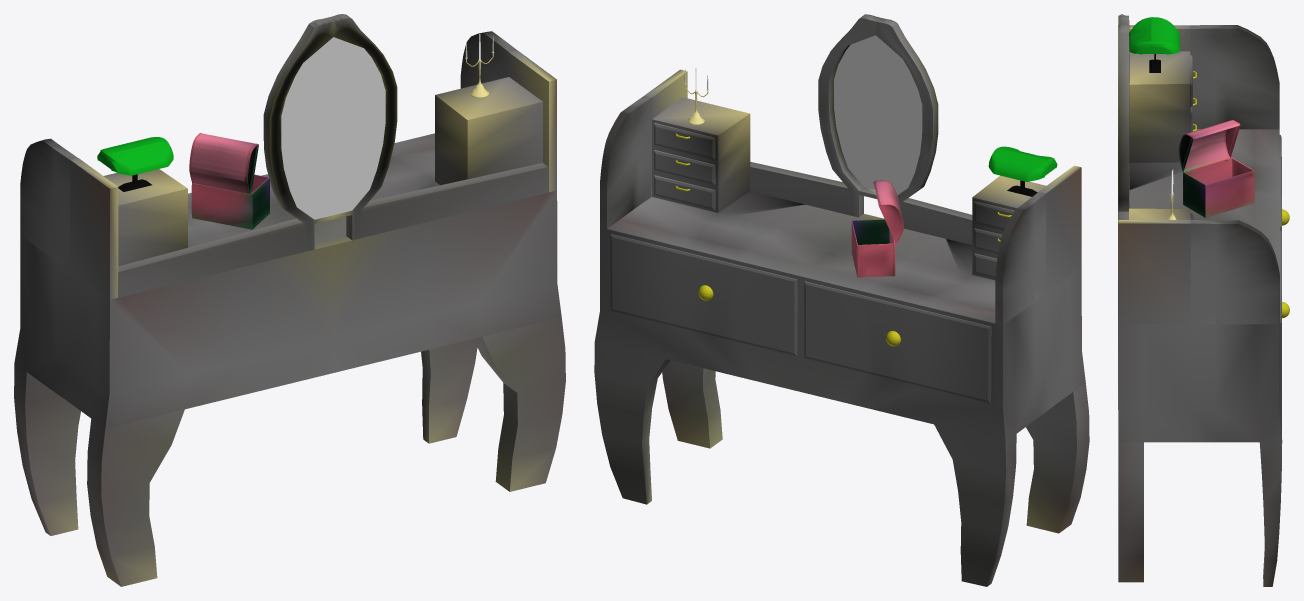
File: makeup.glb
3 renders of one model, left to right at view 1: azimuth 30°, elevation 25°; view 2: azimuth 150°, elevation 25°; view 3: azimuth 270°, elevation 25°, orthographic. The views are drawn at different scales.
Parts seen in each view (by area): view 1: Plane.001_0, ogledalo_2, Cylinder.002_7, Circle.005_6; view 2: Plane.001_0, ogledalo_2, Cylinder.002_7, Circle.005_6; view 3: Plane.001_0, Cylinder.002_7, Circle.005_6, Circle.001_1.
Boxes of the visible parts, box(x1,y1,x2,y2) form: Plane.001_0: box(14, 14, 565, 586); ogledalo_2: box(281, 37, 385, 219); Cylinder.002_7: box(189, 133, 269, 229); Circle.005_6: box(97, 137, 173, 191); Plane.001_0: box(594, 14, 1089, 586); ogledalo_2: box(834, 35, 922, 195); Cylinder.002_7: box(851, 180, 903, 277); Circle.005_6: box(988, 146, 1057, 196); Plane.001_0: box(1118, 14, 1282, 586); Cylinder.002_7: box(1178, 120, 1254, 217); Circle.005_6: box(1129, 17, 1179, 72); Circle.001_1: box(1193, 71, 1289, 318).
Size of what is drawn, in the model's own units: 0.8319 by 0.8972 by 0.2935.
